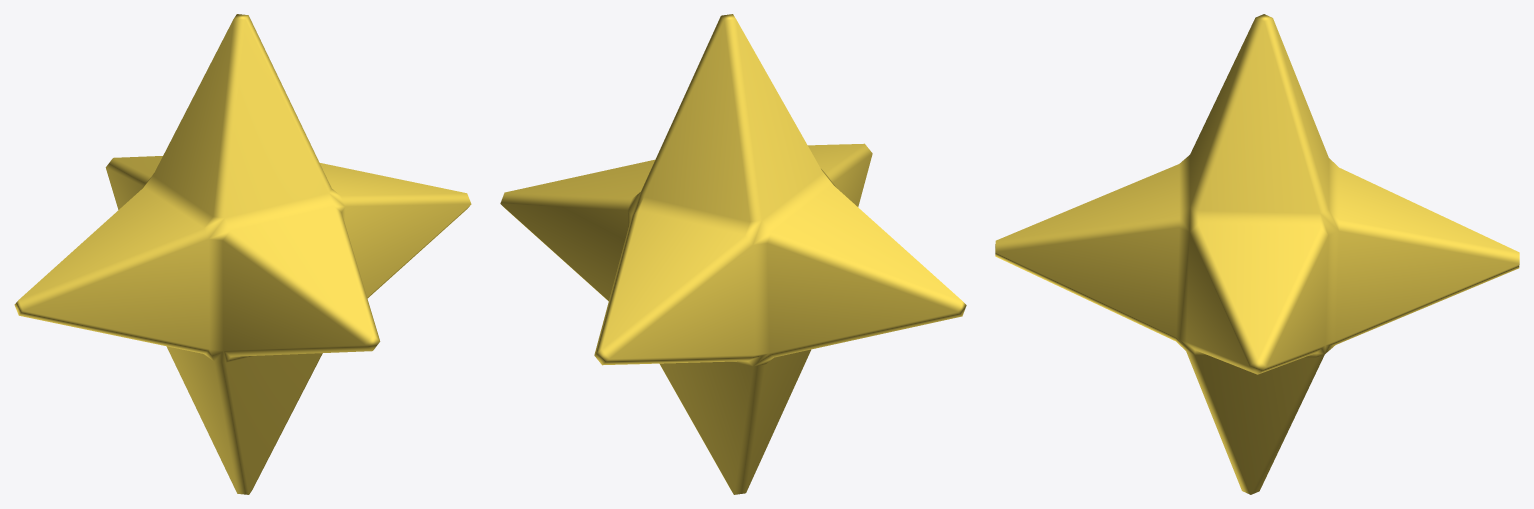
3 views of the same model, side by side, from view 1: azimuth 30°, elevation 25°; view 2: azimuth 150°, elevation 25°; view 3: azimuth 270°, elevation 25° (orthographic).
Visible parts, largest first — view 1: it0202; view 2: it0202; view 3: it0202.
Part boxes in pixels (box(x1,y1,x2,y2)): it0202: box(14, 14, 471, 494); it0202: box(500, 14, 966, 494); it0202: box(995, 14, 1519, 494).
Bounding box in the file's own units: 0.1131 × 0.1132 × 0.1132.
